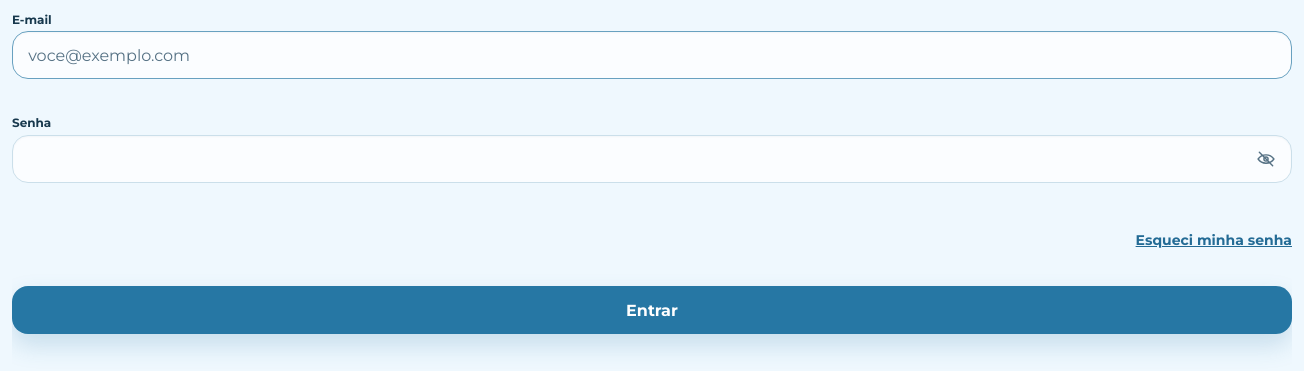
Test: recusa campos inválidos e foca o primeiro erro
The image size is (1304, 371).
Step 1. Click the button "Entrar" → (652,310), box 12,286 -> 1292,334
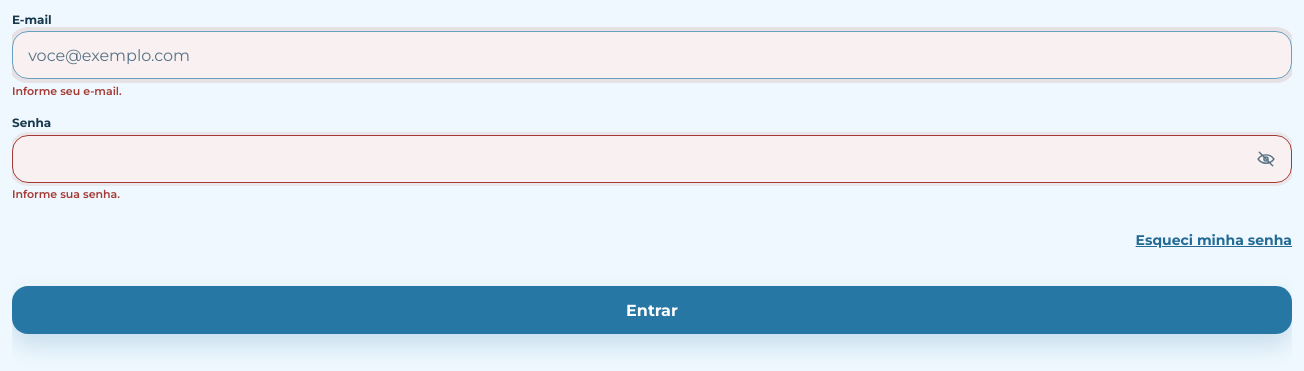
Result: the text "Informe seu e-mail." is shown at 12,84 -> 122,98
Result: the text "Informe sua senha." is shown at 12,187 -> 120,201
